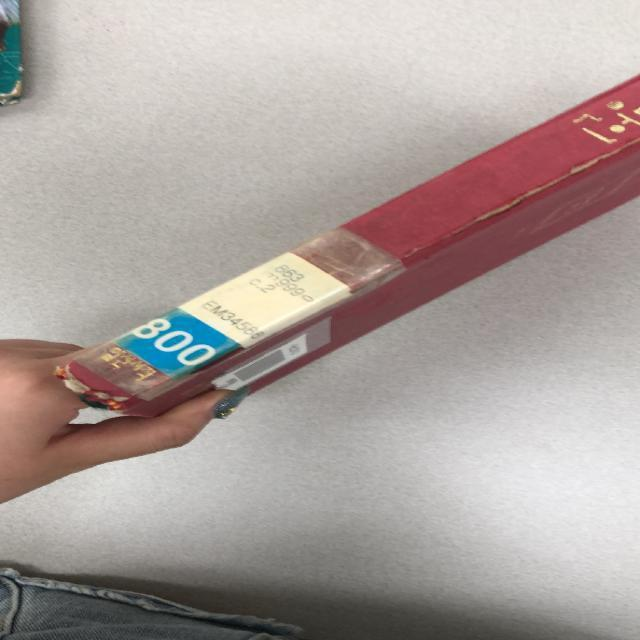Ripped: (401, 135, 639, 261), (46, 363, 132, 408)
